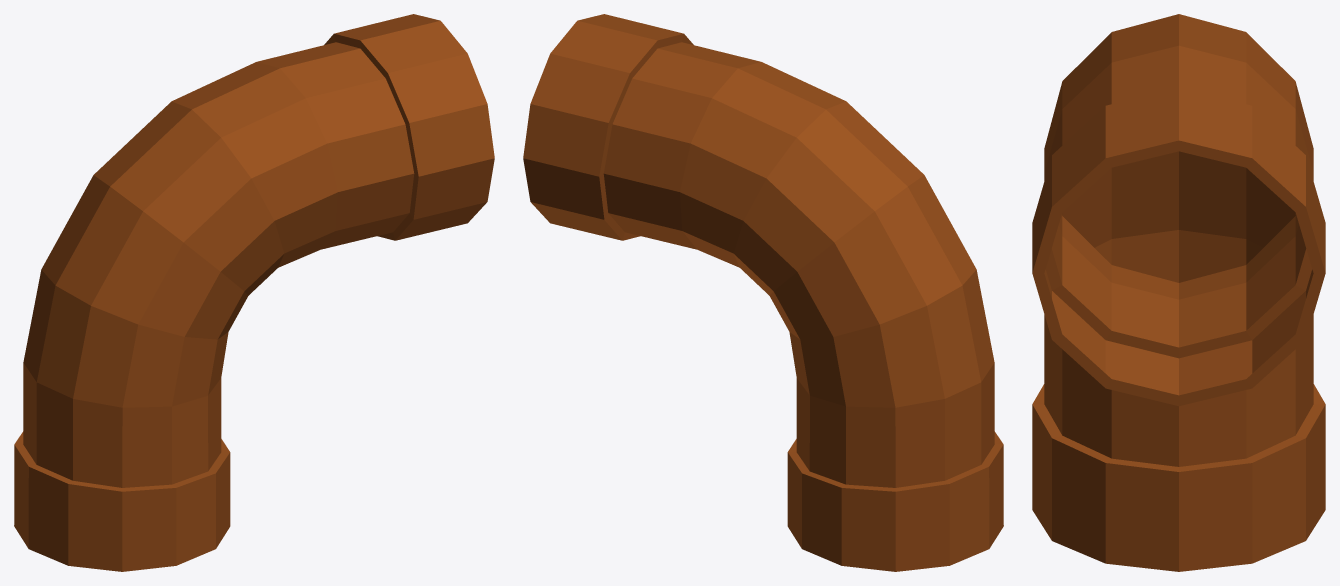
The model's file is 90 degree pipe.fbx.
3 renders of one model, left to right at view 1: azimuth 30°, elevation 25°; view 2: azimuth 150°, elevation 25°; view 3: azimuth 270°, elevation 25°, orthographic. The views are drawn at different scales.
Parts seen in each view (by area): view 1: Plane; view 2: Plane; view 3: Plane.
Boxes of the visible parts, bbox=[...] form: Plane: bbox=[14, 14, 494, 571]; Plane: bbox=[523, 14, 1003, 571]; Plane: bbox=[1032, 14, 1325, 571].
Size of the model in its own units: 2597 by 2577 by 1181.
